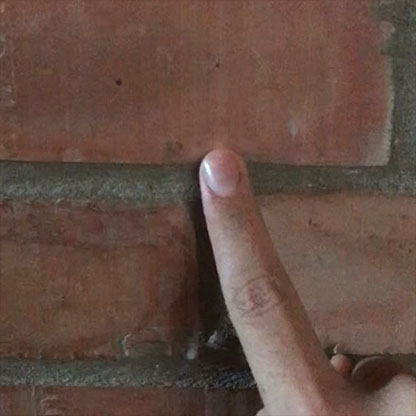fingertip: (190, 142, 261, 208)
